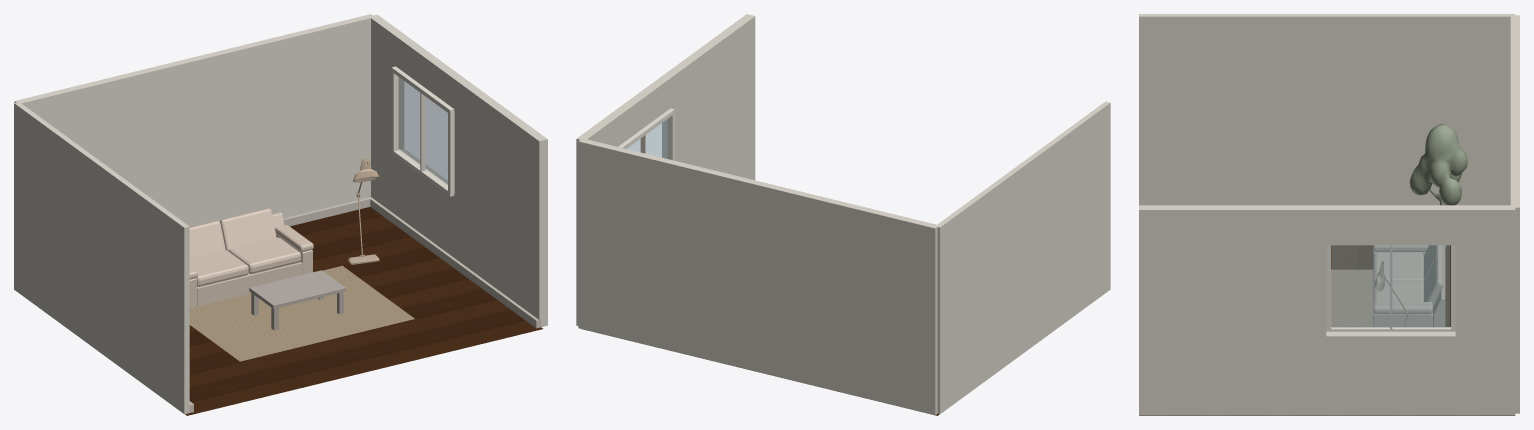
Rendered from cal-s-living-room.glb.
3 views of the same model, side by side, from view 1: azimuth 30°, elevation 25°; view 2: azimuth 150°, elevation 25°; view 3: azimuth 270°, elevation 25° (orthographic). The views are drawn at different scales.
Visible parts, largest first — view 1: Editable room, Rug, Furniture_Wide, Cube, Clamp; view 2: Editable room; view 3: Editable room, Furniture_Wide, Cylinder001, Rug.
Part boxes in pixels (box(x1,y1,x2,y2)): Editable room: box(14, 14, 547, 415); Rug: box(189, 265, 414, 361); Furniture_Wide: box(189, 208, 313, 308); Cube: box(249, 270, 345, 330); Clamp: box(348, 158, 379, 264); Editable room: box(576, 14, 1110, 415); Editable room: box(1139, 14, 1519, 415); Furniture_Wide: box(1373, 245, 1445, 326); Cylinder001: box(1409, 124, 1467, 246); Rug: box(1331, 269, 1373, 326).
Size of the model in its own units: 5.91 by 2.94 by 4.86.
16 materials, 4 textured.
